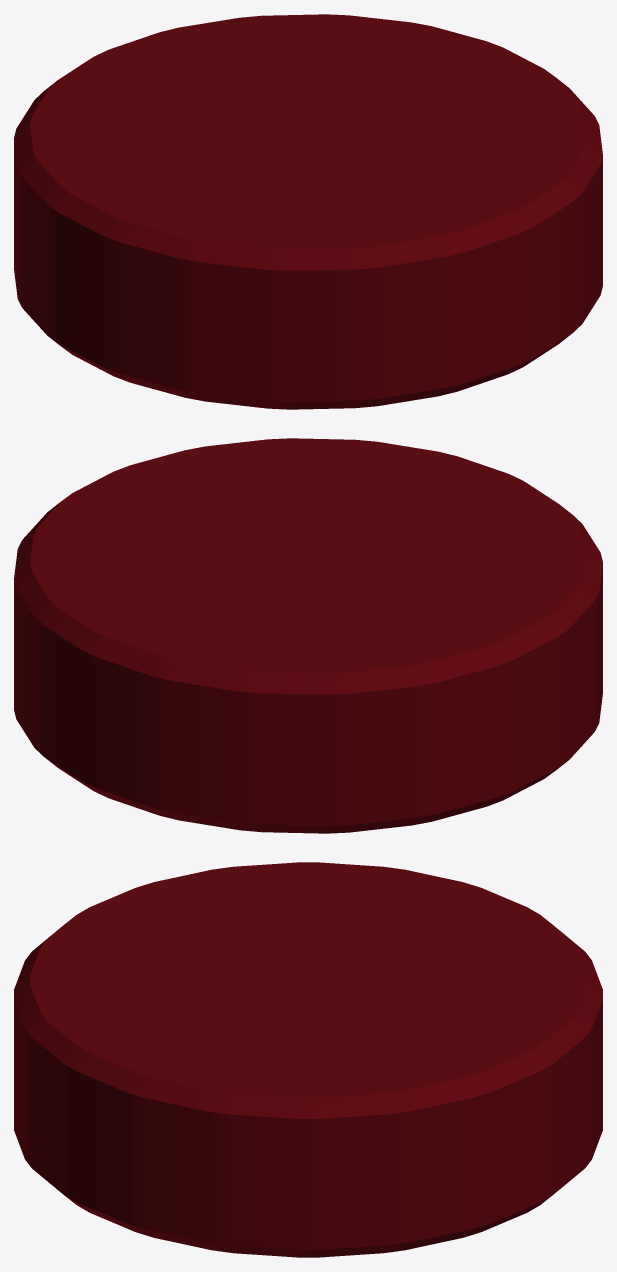
Rendered from onlythebutton.fbx.
3 views of the same model, one above another, from view 1: azimuth 30°, elevation 25°; view 2: azimuth 150°, elevation 25°; view 3: azimuth 270°, elevation 25° (orthographic).
Parts seen in each view (by area): view 1: button_low; view 2: button_low; view 3: button_low.
Part boxes in pixels (left/top/right/bottom): button_low: left=14, top=14, right=602, bottom=409; button_low: left=14, top=438, right=602, bottom=833; button_low: left=14, top=862, right=602, bottom=1257.
Bounding box in the file's own units: 2.02 × 0.6049 × 2.02.
